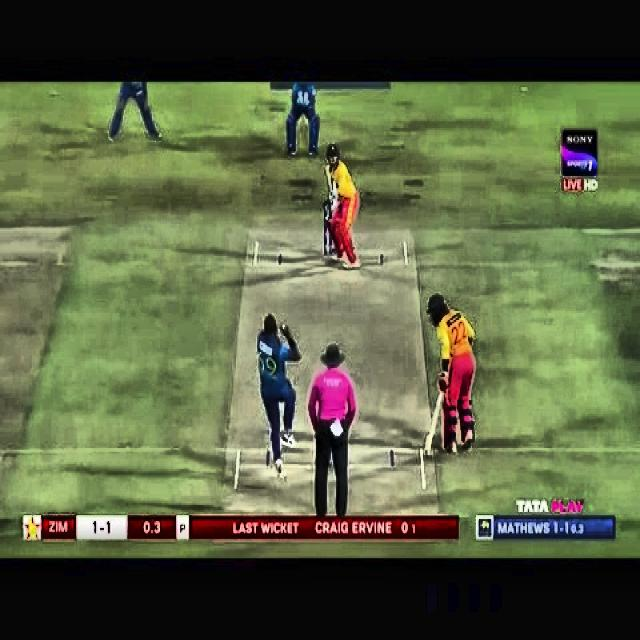Left-stump: (324, 202, 327, 256)
Middle-stump: (328, 234, 332, 255)
